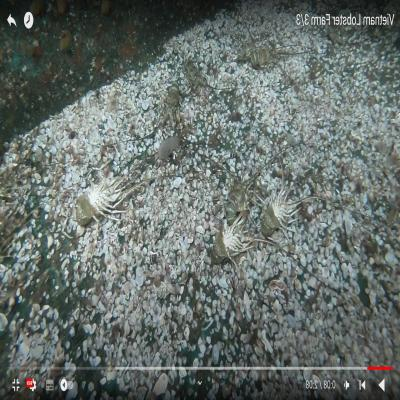lobster: (75, 178, 118, 228), (260, 193, 290, 238), (225, 180, 250, 226), (161, 84, 183, 131), (251, 47, 273, 71)
